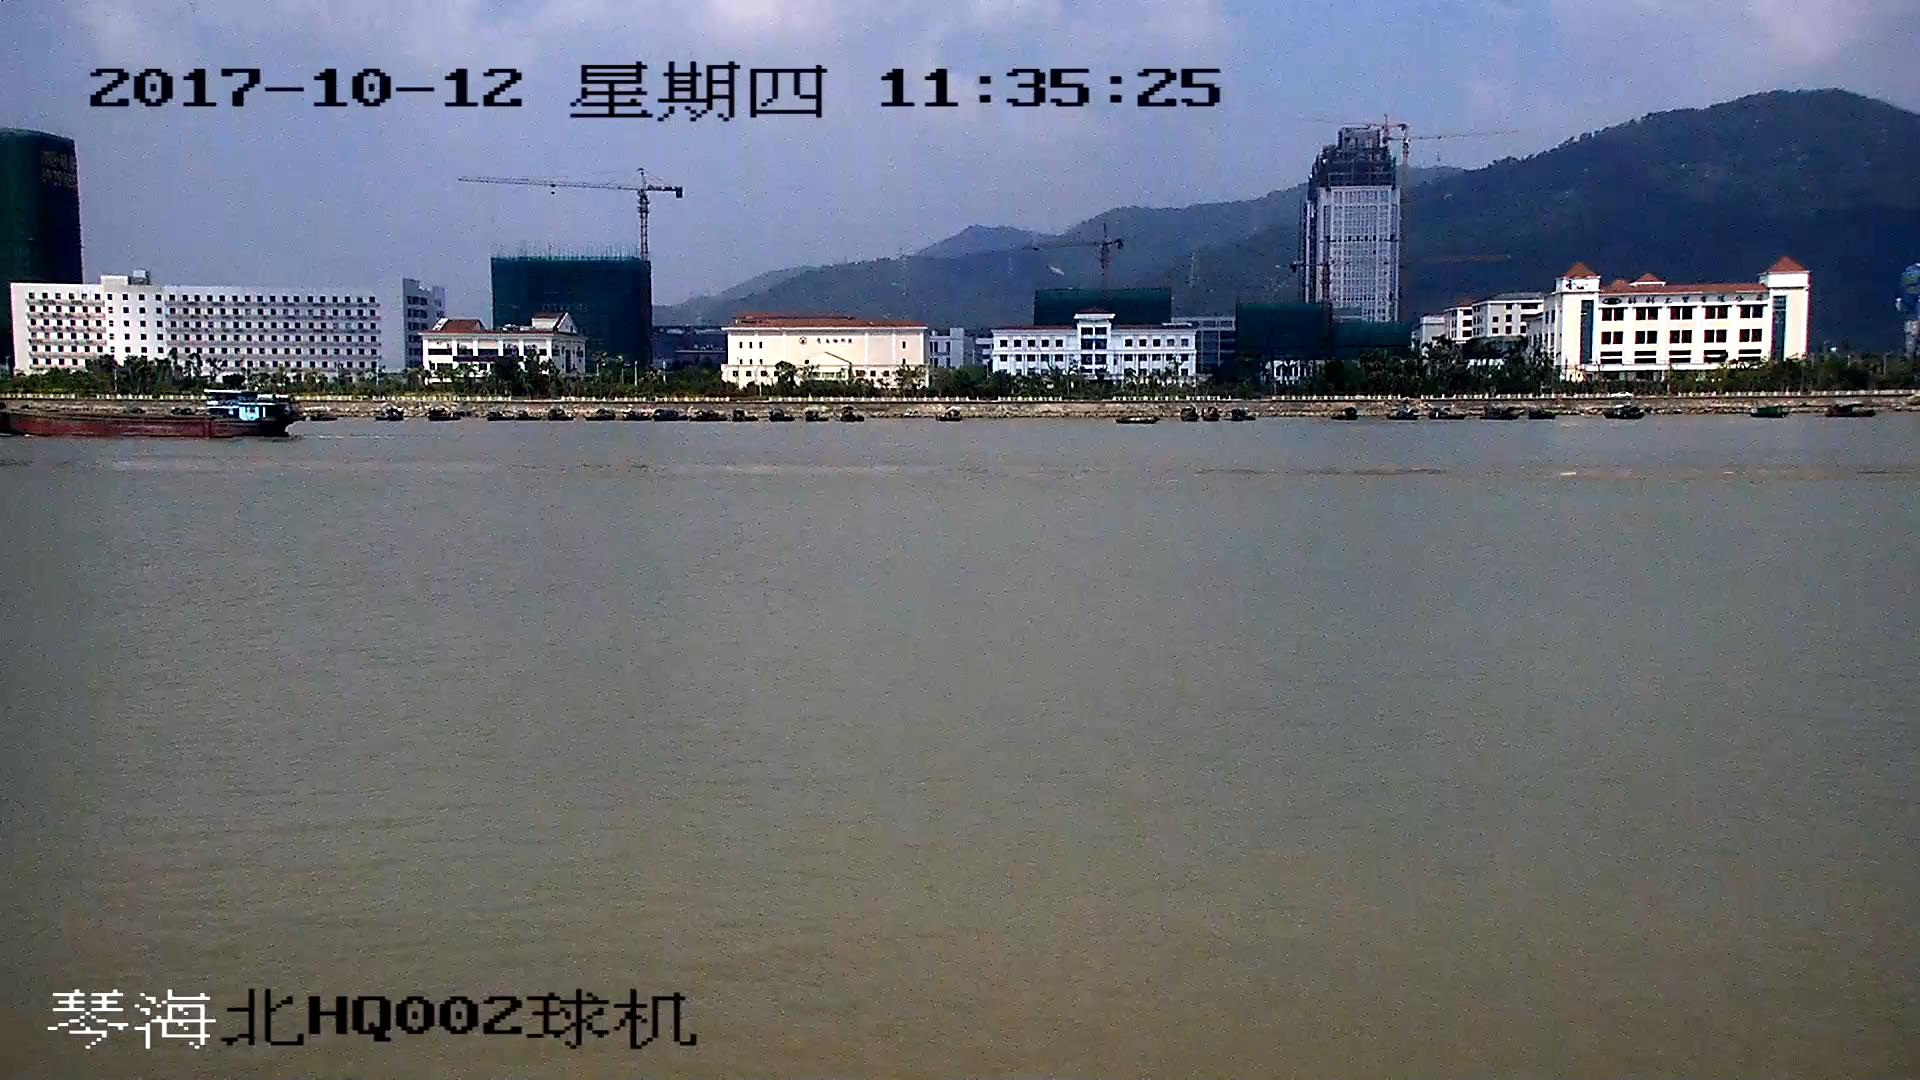bulk cargo carrier: (1, 385, 297, 439)
